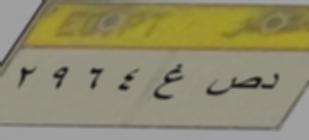2: (8, 59, 42, 92)
4: (113, 66, 146, 97)
6: (82, 58, 108, 99)
9: (48, 59, 73, 92)
daal: (263, 67, 283, 97)
ghayn: (152, 58, 188, 110)
saad: (204, 70, 262, 101)
